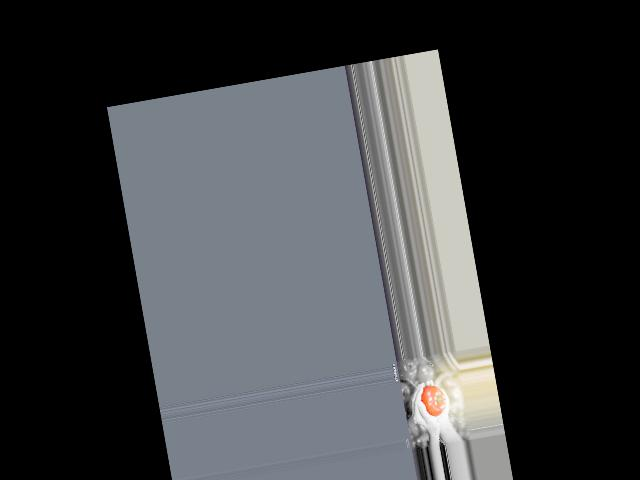tomato: (418, 383, 448, 418)
